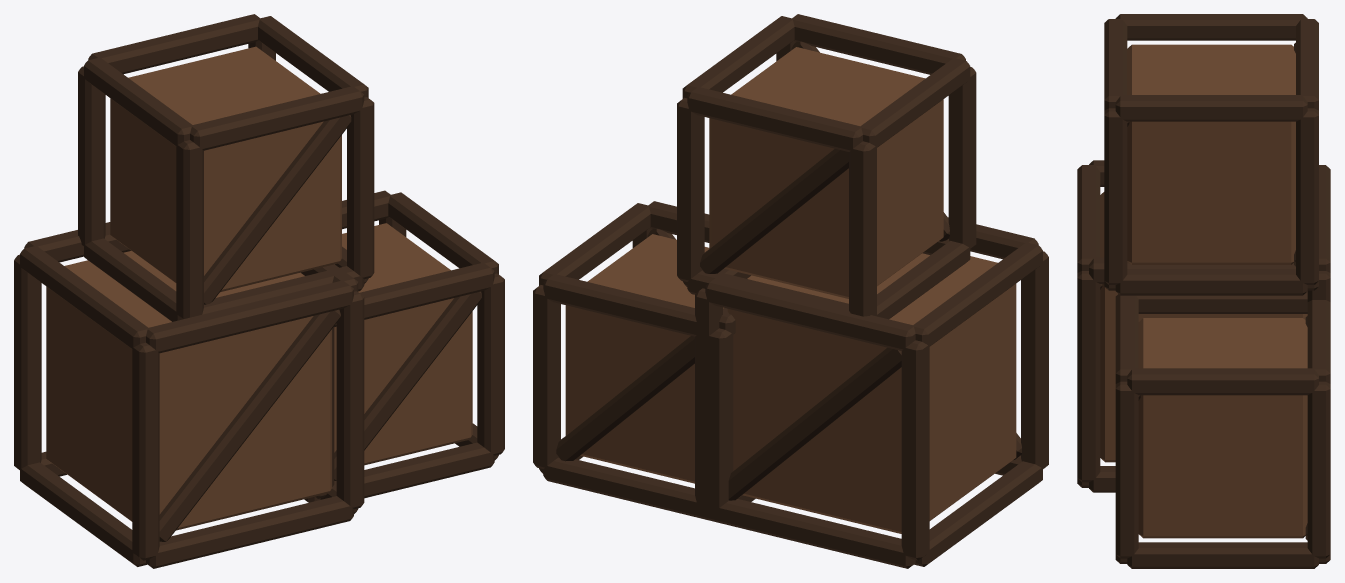
Rendered from crate_pile.glb.
3 renders of one model, left to right at view 1: azimuth 30°, elevation 25°; view 2: azimuth 150°, elevation 25°; view 3: azimuth 270°, elevation 25°, orthographic. The views are drawn at different scales.
Visible parts, largest first — view 1: CratePile; view 2: CratePile; view 3: CratePile.
Part boxes in pixels (<box>): CratePile: <box>14,14,504,568</box>; CratePile: <box>533,14,1048,568</box>; CratePile: <box>1077,14,1330,568</box>.
Size of the model in its own units: 1.13 by 1.16 by 0.66.
